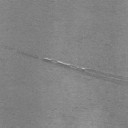finishing roll printing: (2, 46, 128, 84)
